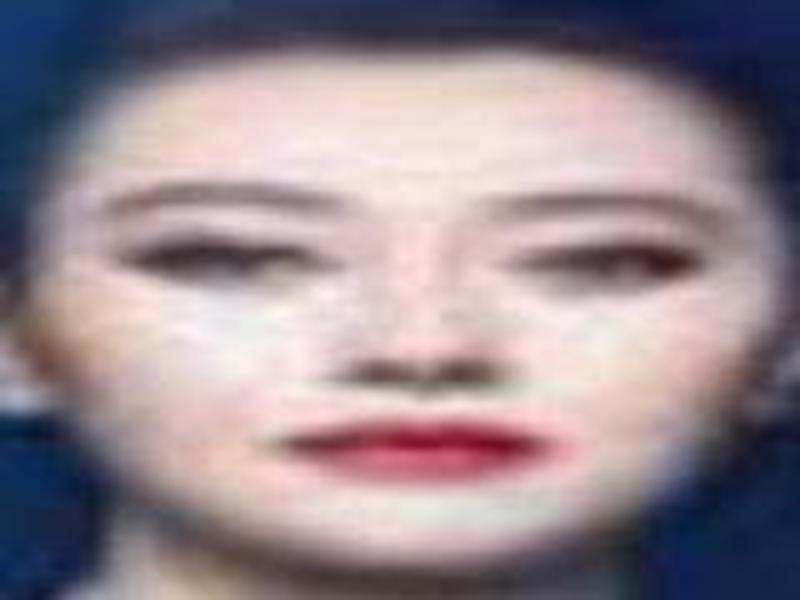without_mask: (31, 116, 759, 567)
